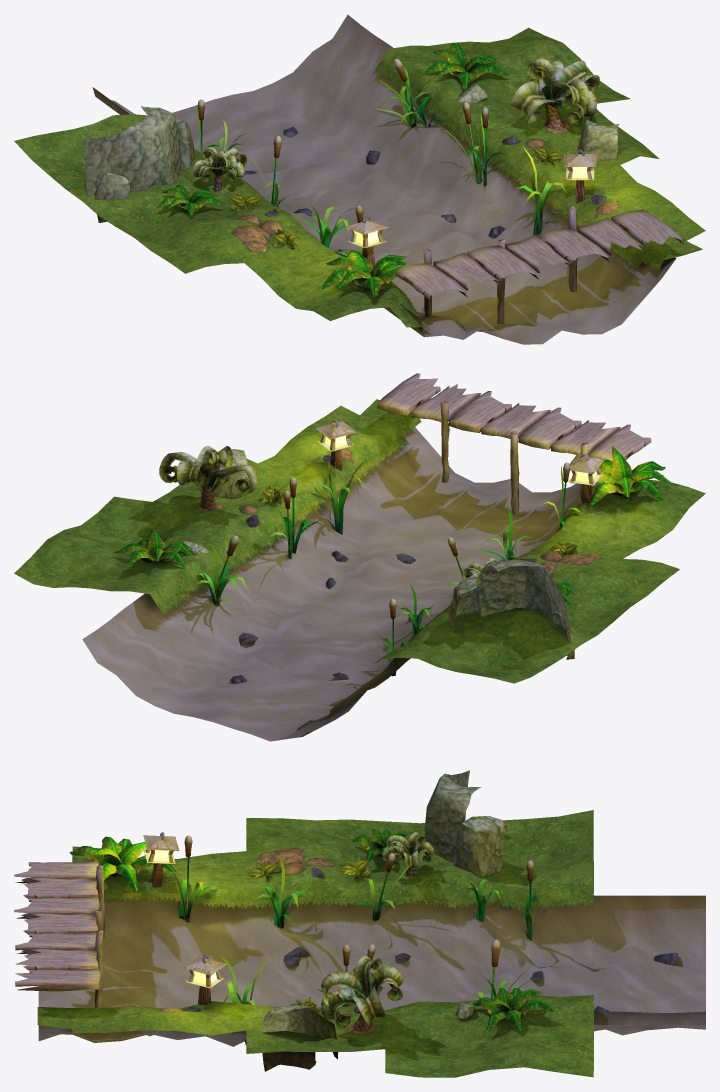
File: level.glb
3 views of the same model, one above another, from view 1: azimuth 30°, elevation 25°; view 2: azimuth 150°, elevation 25°; view 3: azimuth 270°, elevation 25° (orthographic). The views are drawn at different scales.
Visible parts, largest first — view 1: default, transparent; view 2: default, transparent; view 3: default, transparent.
Part boxes in pixels (box(x1,y1,x2,y2)): default: box(14, 14, 705, 344); transparent: box(230, 63, 641, 315); default: box(14, 373, 705, 741); transparent: box(159, 436, 581, 667); default: box(14, 770, 705, 1077); transparent: box(104, 857, 593, 1011).
Size of the model in its own units: 8.14 by 1.95 by 9.33.
Materials: 3 (3 with a texture image).
